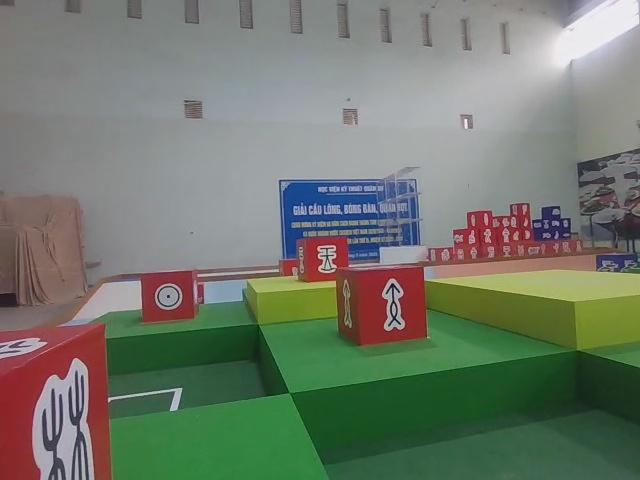R2 Fake: (0, 318, 114, 480)
R2 Real: (332, 263, 430, 349), (138, 267, 202, 323), (295, 234, 350, 286)
